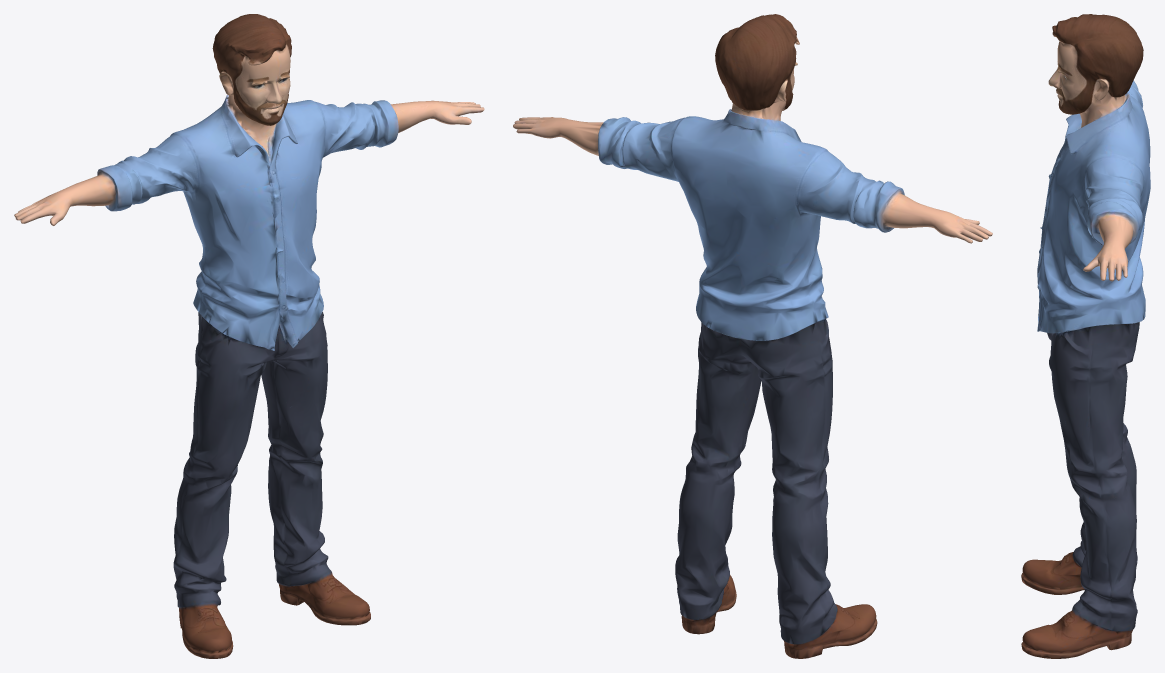
The model's file is scott_lod.glb.
The picture shows the model from 3 angles, left to right: view 1: azimuth 30°, elevation 25°; view 2: azimuth 150°, elevation 25°; view 3: azimuth 270°, elevation 25°; orthographic projection. The views are drawn at different scales.
Visible parts, largest first — view 1: tripo_node_06aa3eb3-7c2d-4028-85b5-94ae5aa77820; view 2: tripo_node_06aa3eb3-7c2d-4028-85b5-94ae5aa77820; view 3: tripo_node_06aa3eb3-7c2d-4028-85b5-94ae5aa77820.
Part boxes in pixels (box(x1,y1,x2,y2)): tripo_node_06aa3eb3-7c2d-4028-85b5-94ae5aa77820: box(14, 14, 484, 658); tripo_node_06aa3eb3-7c2d-4028-85b5-94ae5aa77820: box(513, 14, 992, 658); tripo_node_06aa3eb3-7c2d-4028-85b5-94ae5aa77820: box(1021, 14, 1150, 658).
Bounding box in the file's own units: 0.8113 × 0.9993 × 0.1952.
1 material, 1 textured.
